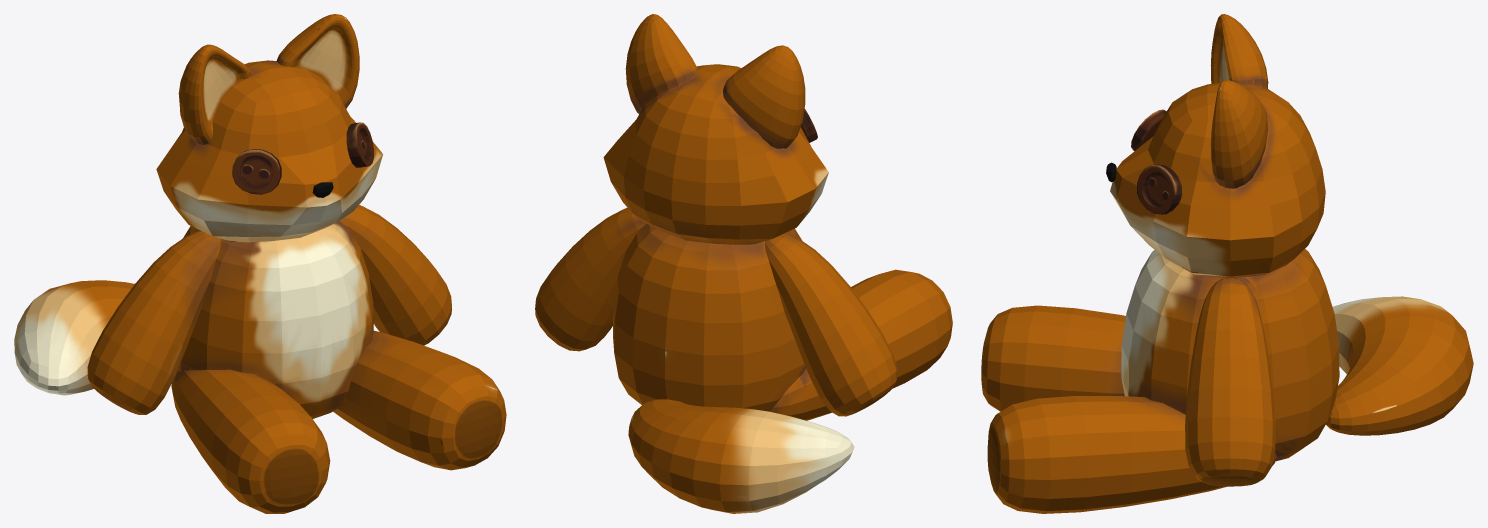
The model's file is FoxPlush.fbx.
3 renders of one model, left to right at view 1: azimuth 30°, elevation 25°; view 2: azimuth 150°, elevation 25°; view 3: azimuth 270°, elevation 25°, orthographic. The views are drawn at different scales.
Visible parts, largest first — view 1: Fox, FoxEyes; view 2: Fox; view 3: Fox, FoxEyes.
Boxes of the visible parts, x1,y1,x2,y2 form: Fox: [14, 14, 506, 513]; FoxEyes: [232, 122, 373, 194]; Fox: [535, 14, 952, 513]; Fox: [981, 14, 1473, 513]; FoxEyes: [1131, 109, 1182, 214].
Bounding box in the file's own units: 497 × 517 × 557.
Materials: 3 (2 with a texture image).
